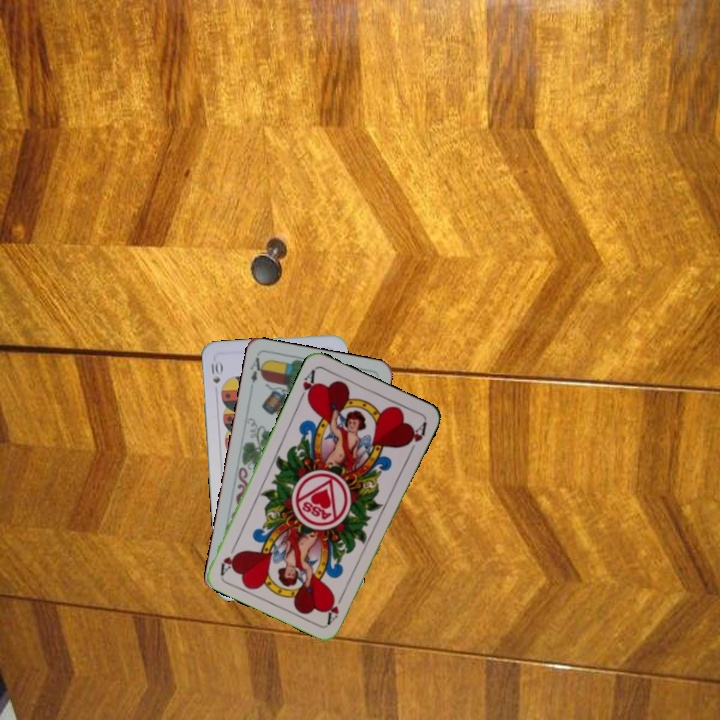EA: (246, 353, 267, 393)
HA: (295, 365, 319, 405), (323, 588, 347, 626)
S10: (207, 359, 224, 385)
